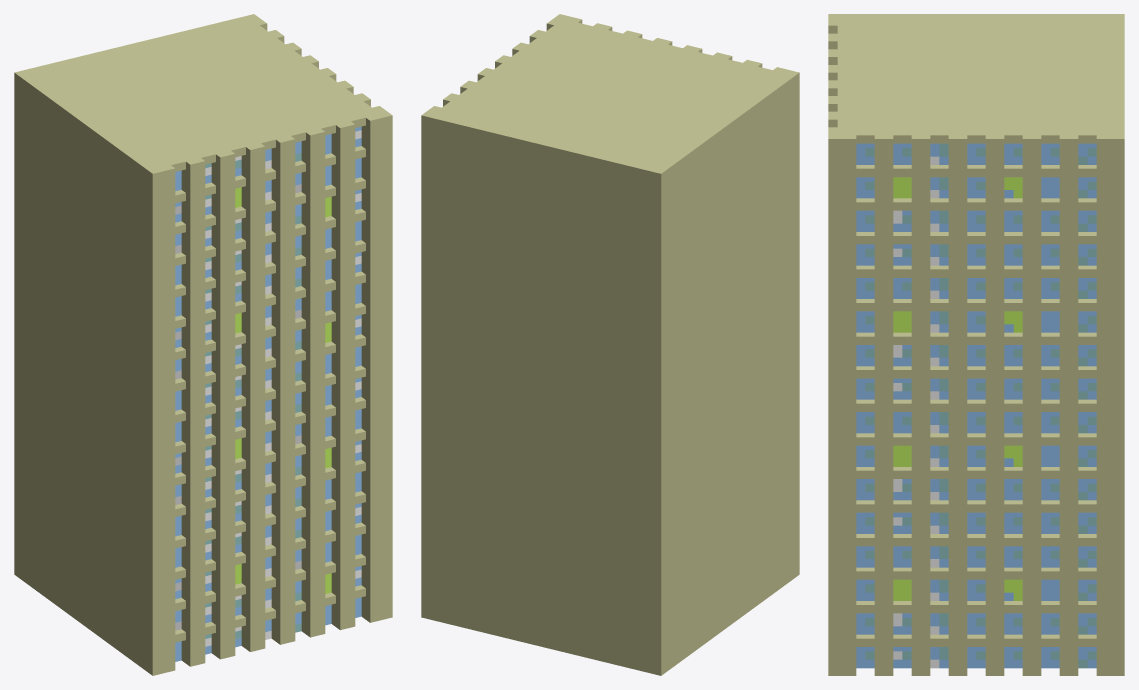
The model's file is SkyScraperTopper.vox.obj.
3 renders of one model, left to right at view 1: azimuth 30°, elevation 25°; view 2: azimuth 150°, elevation 25°; view 3: azimuth 270°, elevation 25°, orthographic. The views are drawn at different scales.
Size of the model in its own units: 3.2 by 6.4 by 3.2.
1 material, 1 textured.
